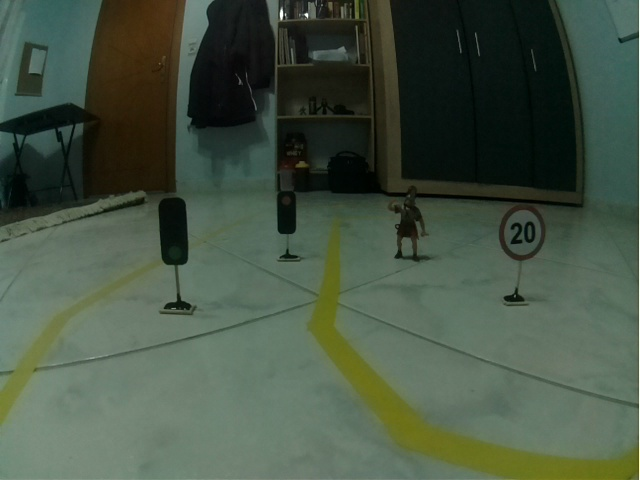Green Traffic Light: (158, 196, 188, 265)
Person: (387, 186, 429, 262)
Red Traffic Light: (277, 190, 296, 234)
Speed Limit 20: (499, 205, 546, 261)
